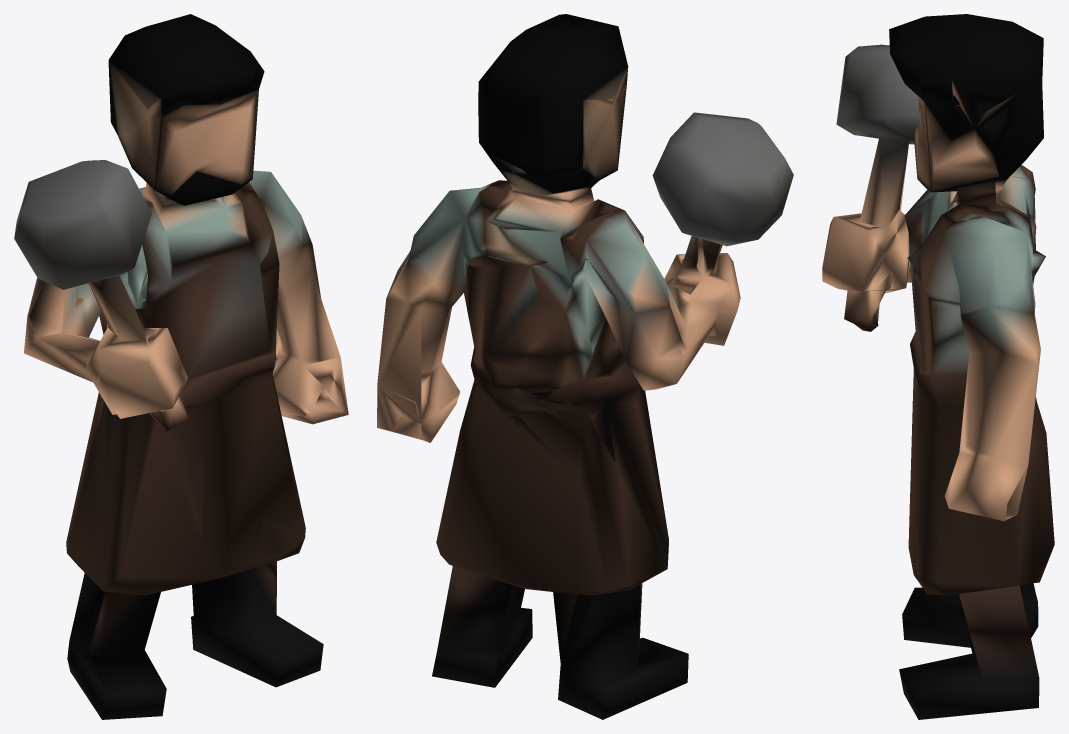
The model's file is gen3d-blacksmith-lod1.glb.
The picture shows the model from 3 angles, left to right: view 1: azimuth 30°, elevation 25°; view 2: azimuth 150°, elevation 25°; view 3: azimuth 270°, elevation 25°; orthographic projection.
Visible parts, largest first — view 1: part_0; view 2: part_0; view 3: part_0.
Part boxes in pixels (x1=…): part_0: x1=14, y1=14, x2=348, y2=719; part_0: x1=377, y1=14, x2=793, y2=719; part_0: x1=822, y1=14, x2=1054, y2=719.
Bounding box in the file's own units: 0.5705 × 0.9968 × 0.3275.
